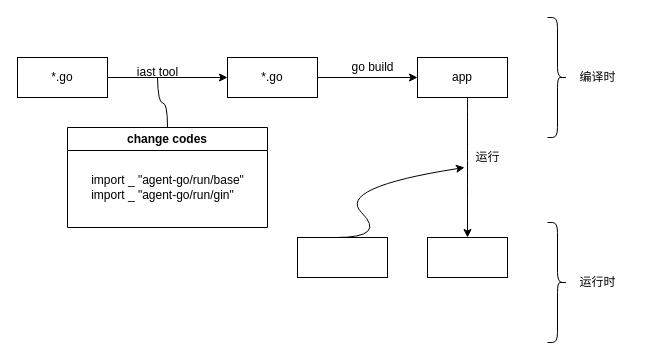
This 645x360 diagram has some shape labels left out. The shapes that lost their labels are listed below. From the top down, each one's centre as x and y in pixels, then its label:
At pixel 342 257: "iast config file".
At pixel 467 257: "执行 import 的 init() 函数，hook关键函数".
